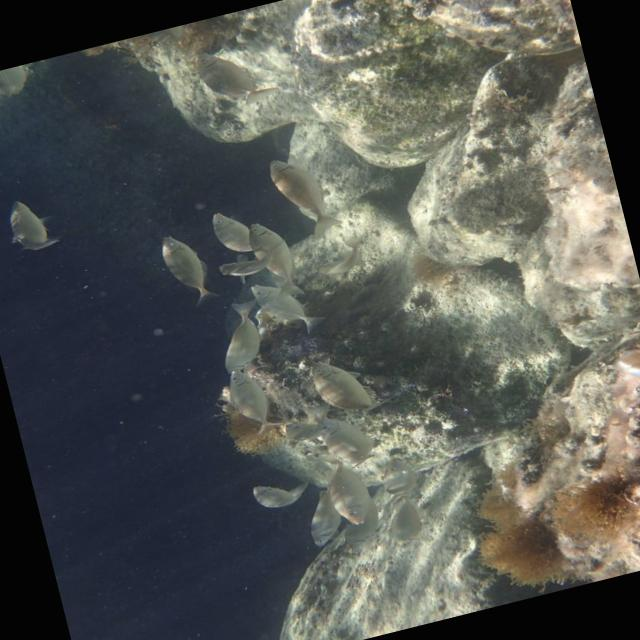Sokar Baligi: (252, 137, 358, 252), (143, 218, 228, 319), (0, 180, 73, 268)
